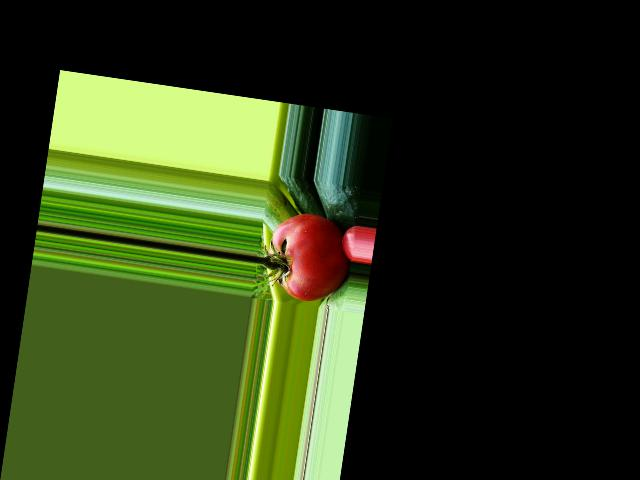tomato: (263, 209, 356, 306)
